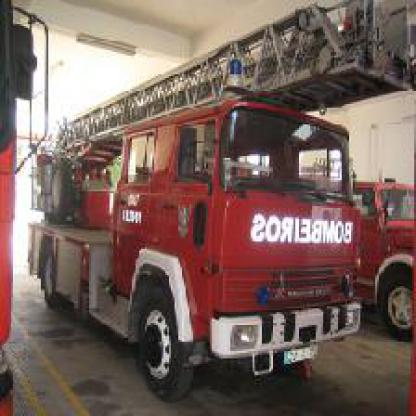emergency: (32, 4, 414, 397), (277, 171, 414, 343)
